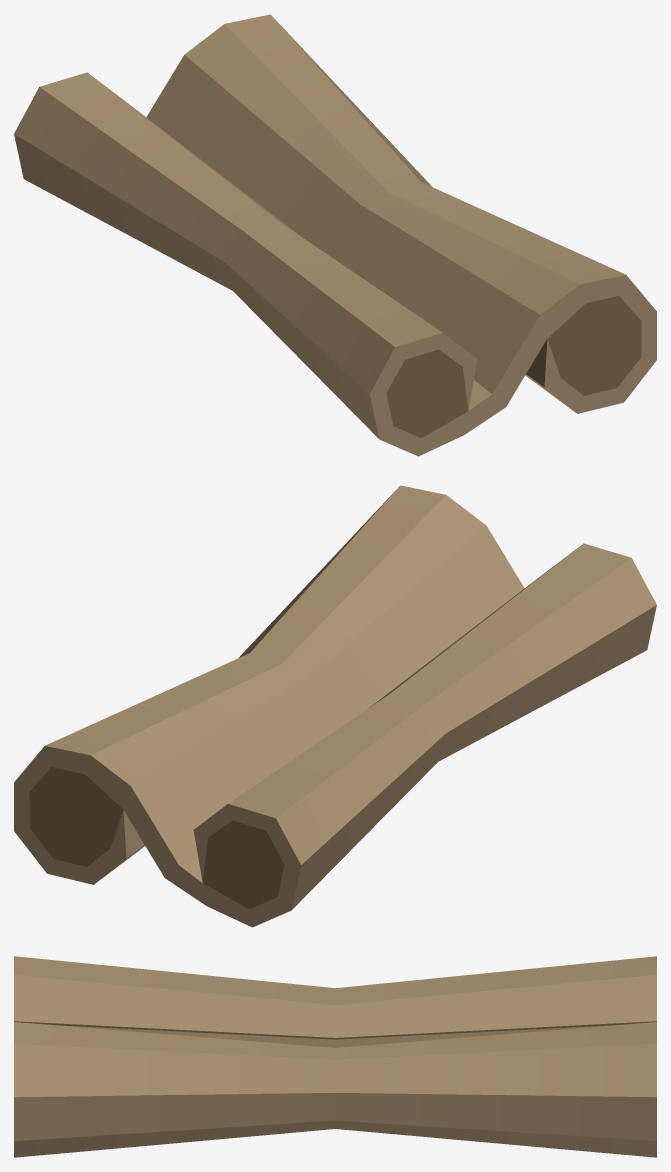
The model's file is SM_Item_Map_01.glb.
3 renders of one model, top to bottom at view 1: azimuth 30°, elevation 25°; view 2: azimuth 150°, elevation 25°; view 3: azimuth 270°, elevation 25°, orthographic. The views are drawn at different scales.
Visible parts, largest first — view 1: SM_Item_Map_01; view 2: SM_Item_Map_01; view 3: SM_Item_Map_01.
Boxes of the visible parts, left/top/right/bottom form: SM_Item_Map_01: left=14, top=14, right=656, bottom=456; SM_Item_Map_01: left=14, top=485, right=656, bottom=927; SM_Item_Map_01: left=14, top=956, right=656, bottom=1157.
Bounding box in the file's own units: 0.00187 × 0.000828 × 0.00402.
